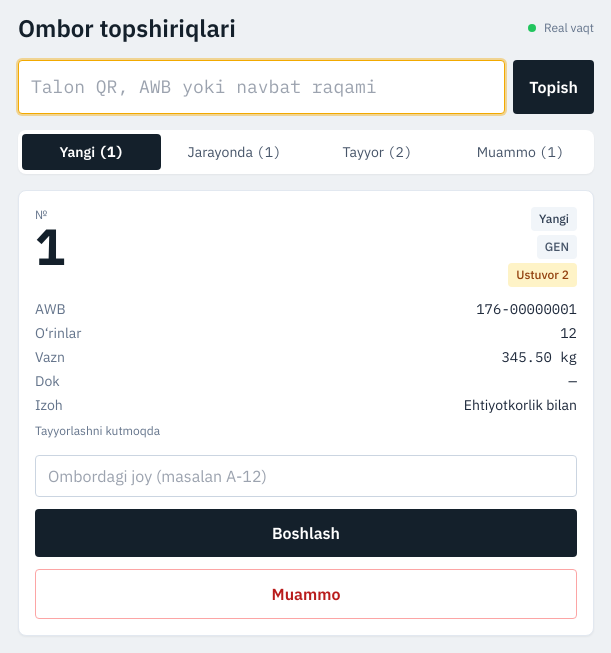
Test: WarehousePage › marks special-handling cargo
What coordinates should you click on to do the following:
click the button "Jarayonda (1)"
I would click on:
 (234, 152)
Its box is [165,134,304,170].
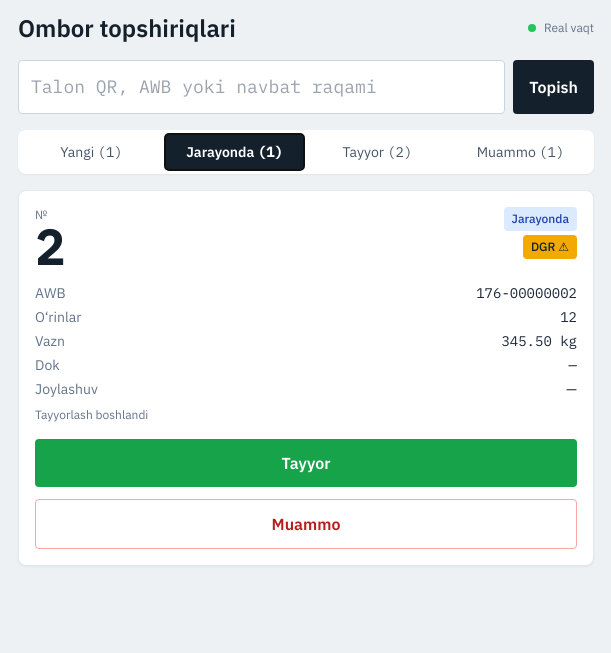
Result: the text titled "Maxsus ishlov" shows "DGR" at [531,239,555,254]
